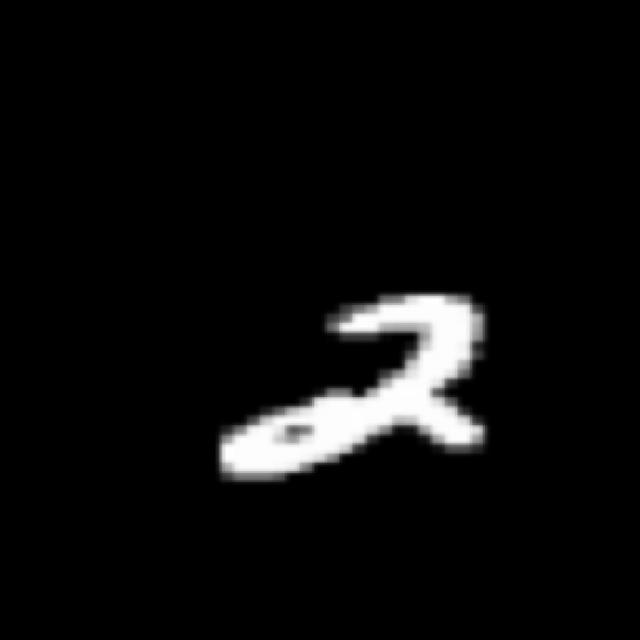two -2-: (200, 277, 519, 481)
